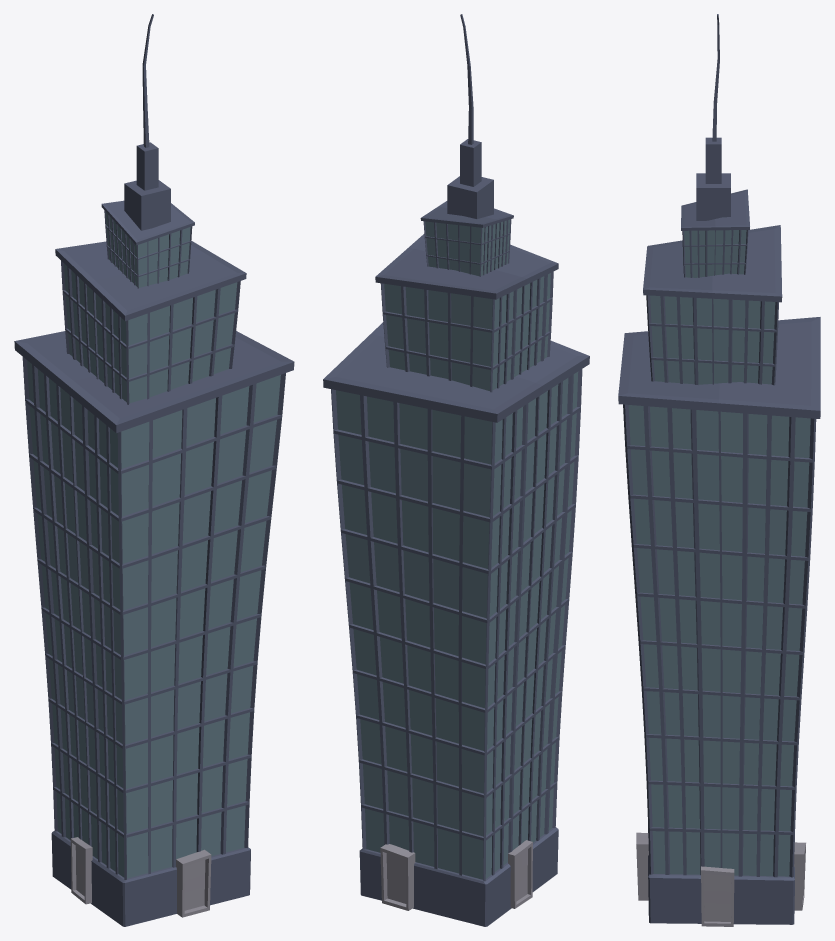
Rendered from Skyscraper2.fbx.
3 renders of one model, left to right at view 1: azimuth 30°, elevation 25°; view 2: azimuth 150°, elevation 25°; view 3: azimuth 270°, elevation 25°, orthographic.
Parts seen in each view (by area): view 1: Skyscraper 1, Skyscraper 1.002, Skyscraper 1.003, Window 3, Cube, Window 3.003, Cube.001, Cube.002; view 2: Skyscraper 1, Skyscraper 1.002, Skyscraper 1.003, Window 3.002, Cube, Window 3.003, Cube.001, Cube.002; view 3: Skyscraper 1, Skyscraper 1.002, Skyscraper 1.003, Window 3.001, Cube, Window 3, Cube.001, Window 3.002, Cube.002.
Boxes of the visible parts, bbox=[...] form: Skyscraper 1: bbox=[14, 331, 294, 926]; Skyscraper 1.002: bbox=[55, 241, 246, 404]; Skyscraper 1.003: bbox=[101, 200, 194, 288]; Window 3: bbox=[176, 849, 211, 917]; Cube: bbox=[124, 180, 170, 230]; Window 3.003: bbox=[70, 837, 92, 904]; Cube.001: bbox=[136, 142, 158, 190]; Cube.002: bbox=[142, 14, 153, 147]; Skyscraper 1: bbox=[323, 322, 589, 926]; Skyscraper 1.002: bbox=[375, 234, 558, 392]; Skyscraper 1.003: bbox=[420, 201, 513, 276]; Window 3.002: bbox=[380, 844, 415, 910]; Cube: bbox=[447, 176, 493, 218]; Window 3.003: bbox=[508, 840, 532, 908]; Cube.001: bbox=[460, 139, 481, 186]; Cube.002: bbox=[460, 14, 473, 144]; Skyscraper 1: bbox=[618, 317, 820, 924]; Skyscraper 1.002: bbox=[643, 225, 782, 385]; Skyscraper 1.003: bbox=[681, 189, 749, 277]; Window 3.001: bbox=[701, 866, 734, 926]; Cube: bbox=[696, 173, 730, 220]; Window 3: bbox=[636, 832, 648, 900]; Cube.001: bbox=[705, 137, 721, 183]; Window 3.002: bbox=[794, 842, 805, 910]; Cube.002: bbox=[712, 14, 719, 141].
Size of the model in its own units: 416 by 1938 by 404.
